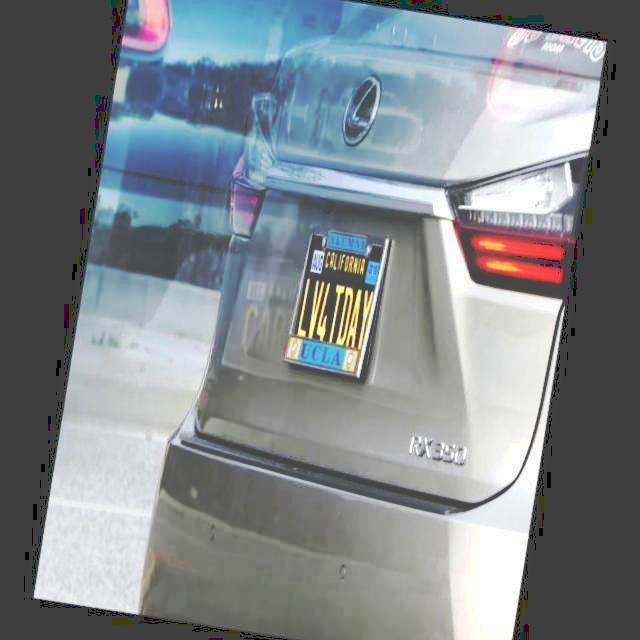license_plate: (279, 225, 399, 385)
